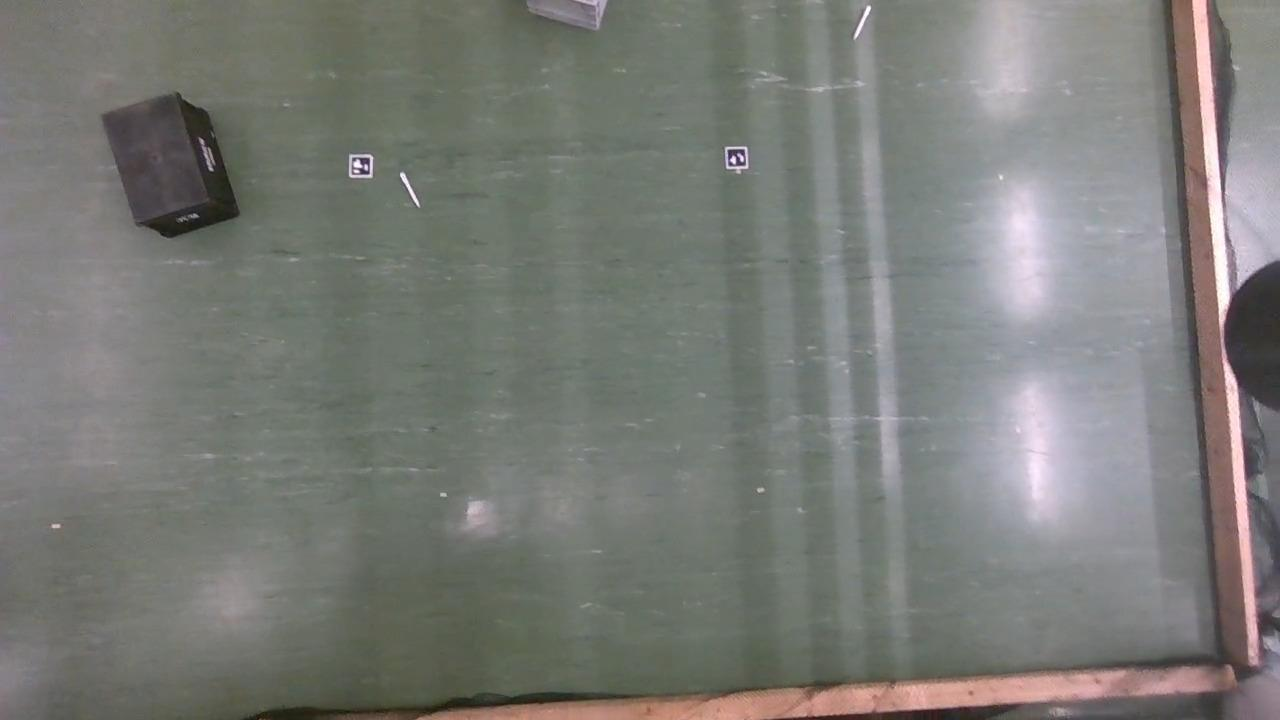probes: (401, 172, 420, 208), (855, 6, 871, 41)
rako: (101, 93, 239, 241), (514, 1, 609, 32)
